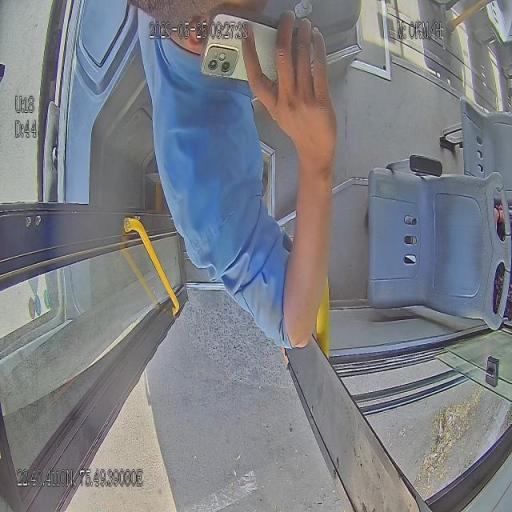persona: (135, 2, 338, 357)
